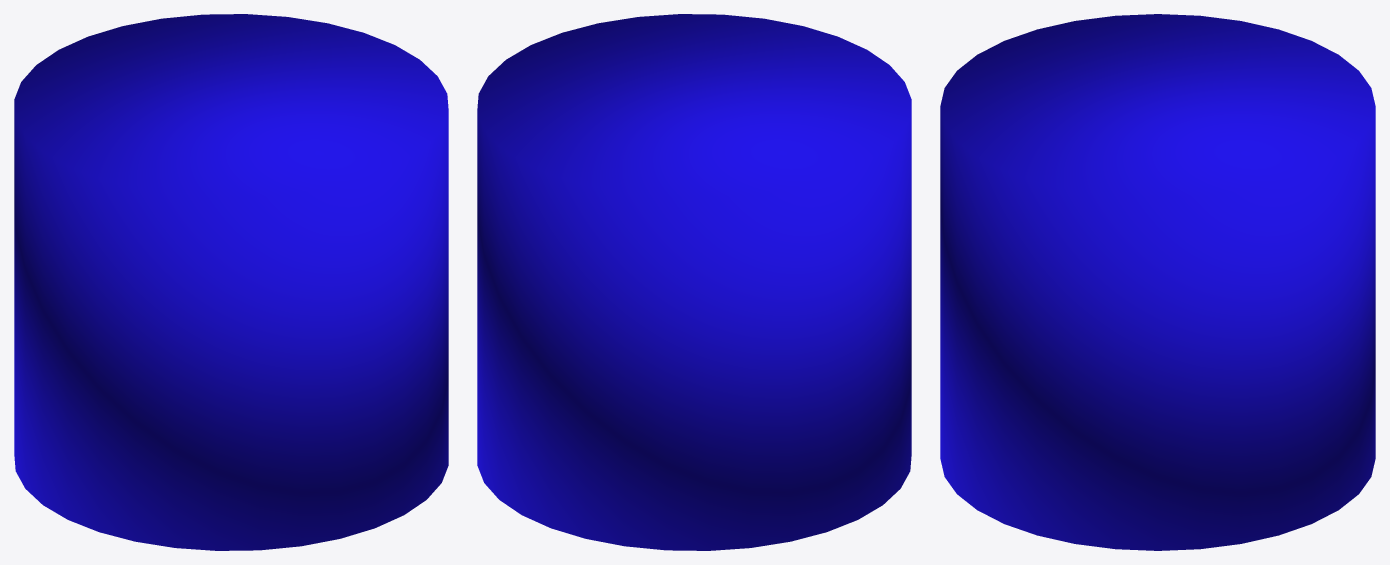
Rendered from stairs.fbx.
3 renders of one model, left to right at view 1: azimuth 30°, elevation 25°; view 2: azimuth 150°, elevation 25°; view 3: azimuth 270°, elevation 25°, orthographic.
Visible parts, largest first — view 1: Cylinder; view 2: Cylinder; view 3: Cylinder.
Part boxes in pixels (<box>): Cylinder: <box>14,14,448,550</box>; Cylinder: <box>477,14,911,550</box>; Cylinder: <box>940,14,1375,550</box>.
Bounding box in the file's own units: 10240 × 9168 × 10240.
